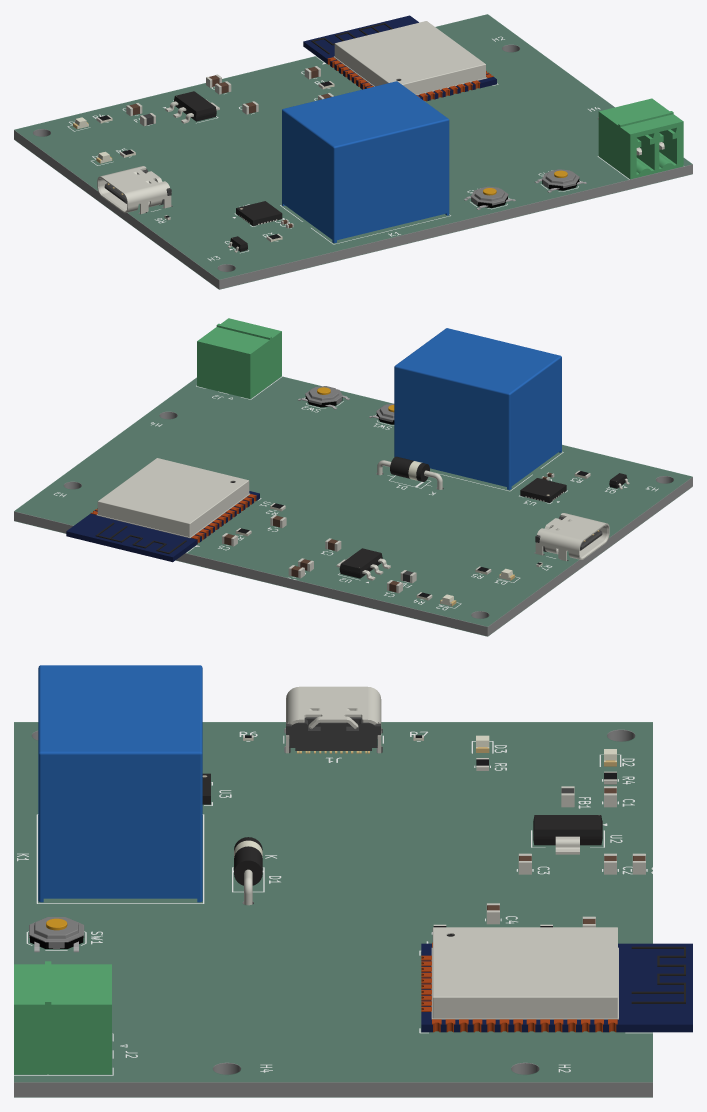
The model's file is ESP32_Simple_IoT_3D.glb.
3 renders of one model, top to bottom at view 1: azimuth 30°, elevation 25°; view 2: azimuth 150°, elevation 25°; view 3: azimuth 270°, elevation 25°, orthographic. The views are drawn at different scales.
Parts seen in each view (by area): view 1: =>[0:1:1:20], =>[0:1:1:18], K1, U1, J2, J1, U2, =>[0:1:1:17], U3, SW2, SW1, =>[0:1:1:19]; view 2: =>[0:1:1:20], =>[0:1:1:18], K1, U1, J2, J1, =>[0:1:1:17], U2, D1, U3, SW2, =>[0:1:1:19]; view 3: =>[0:1:1:20], =>[0:1:1:18], K1, U1, J2, J1, =>[0:1:1:17], U2, SW1, D1.
Part boxes in pixels (left/top/right/bottom): =>[0:1:1:20]: left=14, top=15, right=692, bottom=289; =>[0:1:1:18]: left=14, top=14, right=692, bottom=279; K1: left=282, top=81, right=449, bottom=242; U1: left=303, top=15, right=496, bottom=101; J2: left=598, top=98, right=683, bottom=179; J1: left=97, top=166, right=171, bottom=214; U2: left=165, top=91, right=219, bottom=123; =>[0:1:1:17]: left=67, top=36, right=684, bottom=261; U3: left=236, top=201, right=282, bottom=225; SW2: left=535, top=169, right=586, bottom=192; SW1: left=463, top=186, right=515, bottom=209; =>[0:1:1:19]: left=15, top=140, right=692, bottom=289; =>[0:1:1:20]: left=14, top=377, right=692, bottom=636; =>[0:1:1:18]: left=14, top=376, right=692, bottom=626; K1: left=394, top=328, right=561, bottom=489; U1: left=66, top=458, right=259, bottom=562; J2: left=197, top=318, right=281, bottom=398; J1: left=535, top=513, right=609, bottom=561; =>[0:1:1:17]: left=53, top=376, right=658, bottom=610; U2: left=336, top=548, right=390, bottom=580; D1: left=377, top=456, right=442, bottom=489; U3: left=520, top=478, right=566, bottom=502; SW2: left=298, top=386, right=349, bottom=409; =>[0:1:1:19]: left=14, top=487, right=691, bottom=636; =>[0:1:1:20]: left=14, top=723, right=652, bottom=1097; =>[0:1:1:18]: left=14, top=722, right=652, bottom=1082; K1: left=38, top=665, right=202, bottom=902; U1: left=421, top=927, right=692, bottom=1032; J2: left=14, top=961, right=111, bottom=1074; J1: left=286, top=686, right=381, bottom=753; =>[0:1:1:17]: left=14, top=731, right=652, bottom=1075; U2: left=533, top=815, right=602, bottom=854; SW1: left=29, top=917, right=84, bottom=952; D1: left=234, top=837, right=262, bottom=905.
Size of the model in its own units: 0.0807 by 0.019 by 0.0637.
